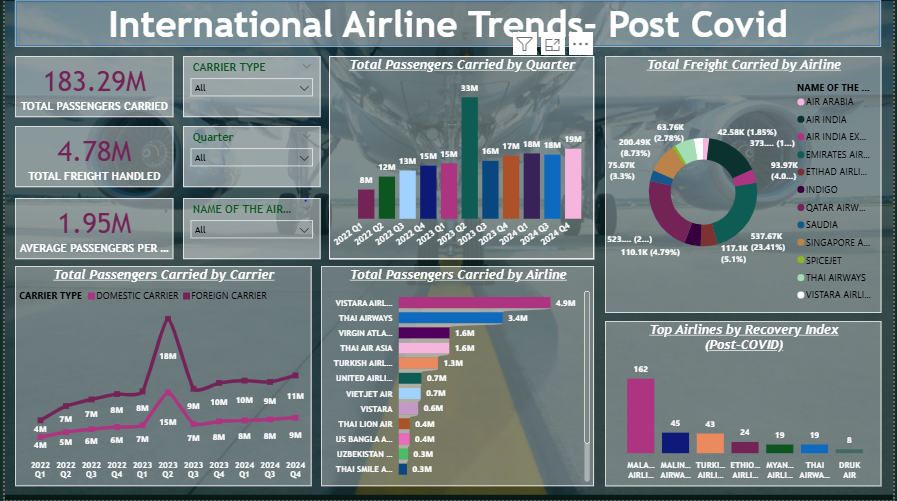

The dashboard page shown, as its layout file describes it:
{"tool":"powerbi","page":{"name":"International Airline Trends","canvas":[1280,720],"ordinal":0},"visuals":[{"type":"shape","box":[14.3,0,1247.1,67.1],"z":0},{"type":"donutChart","title":"Total Freight Carried by Airline","fields":{"Series":["ALL QUARTERS.NAME OF THE AIRLINE"],"Y":["Sum(ALL QUARTERS.TOTAL FREIGHT HANDLED)"]},"box":[863.3,80,398.3,370],"z":1000},{"type":"slicer","fields":{"Values":["ALL QUARTERS.QuarterLabel"]},"box":[256.7,181.7,198.3,88.3],"z":2000},{"type":"slicer","fields":{"Values":["ALL QUARTERS.CARRIER TYPE"]},"box":[256.7,80,198.3,88.3],"z":3000},{"type":"slicer","fields":{"Values":["ALL QUARTERS.NAME OF THE AIRLINE"]},"box":[256.7,285,198.3,88.3],"z":4000},{"type":"card","fields":{"Values":["Sum(ALL QUARTERS.TOTAL PASSENGERS CARRIED)"]},"box":[15,80,228.3,88.3],"z":5000},{"type":"card","fields":{"Values":["ALL QUARTERS.AVERAGE PASSENGERS PER AIRLINE"]},"box":[15,285,228.3,88.3],"z":6000},{"type":"card","fields":{"Values":["Sum(ALL QUARTERS.TOTAL FREIGHT HANDLED)"]},"box":[15,181.7,228.3,88.3],"z":7000},{"type":"barChart","title":"Total Passengers Carried by Airline","fields":{"Category":["ALL QUARTERS.NAME OF THE AIRLINE"],"Y":["Sum(ALL QUARTERS.TOTAL PASSENGERS CARRIED)"]},"box":[455,383.3,393.3,316.7],"z":8000},{"type":"stackedAreaChart","title":"Total Passengers Carried  by Carrier","fields":{"Category":["ALL QUARTERS.QuarterLabel"],"Y":["Sum(ALL QUARTERS.TOTAL PASSENGERS CARRIED)"],"Series":["ALL QUARTERS.CARRIER TYPE"]},"box":[15,383.3,426.7,316.7],"z":9000},{"type":"columnChart","title":"Total Passengers Carried by Quarter","fields":{"Y":["Sum(ALL QUARTERS.TOTAL PASSENGERS CARRIED)"],"Category":["ALL QUARTERS.QuarterLabel"]},"box":[466.7,80,381.7,293.3],"z":11000},{"type":"clusteredColumnChart","title":"Top Airlines by Recovery Index (Post-COVID)","fields":{"Category":["ALL QUARTERS.NAME OF THE AIRLINE"],"Y":["ALL QUARTERS.RecoveryIndex"]},"box":[863.3,461.7,398.3,238.3],"z":12000}]}

Visuals, with their boxes in screenshot pixels (x1, y1, x2, y2), scaled from the page's 1280x720 canvas onto the 897x501 screenshot:
shape: rect(10, 0, 884, 47)
"Total Freight Carried by Airline" donutChart: rect(605, 56, 884, 313)
slicer - ALL QUARTERS.QuarterLabel: rect(180, 126, 319, 188)
slicer - ALL QUARTERS.CARRIER TYPE: rect(180, 56, 319, 117)
slicer - ALL QUARTERS.NAME OF THE AIRLINE: rect(180, 198, 319, 260)
card - Sum(ALL QUARTERS.TOTAL PASSENGERS CARRIED): rect(11, 56, 171, 117)
card - ALL QUARTERS.AVERAGE PASSENGERS PER AIRLINE: rect(11, 198, 171, 260)
card - Sum(ALL QUARTERS.TOTAL FREIGHT HANDLED): rect(11, 126, 171, 188)
"Total Passengers Carried by Airline" barChart: rect(319, 267, 594, 487)
"Total Passengers Carried  by Carrier" stackedAreaChart: rect(11, 267, 310, 487)
"Total Passengers Carried by Quarter" columnChart: rect(327, 56, 595, 260)
"Top Airlines by Recovery Index (Post-COVID)" clusteredColumnChart: rect(605, 321, 884, 487)
